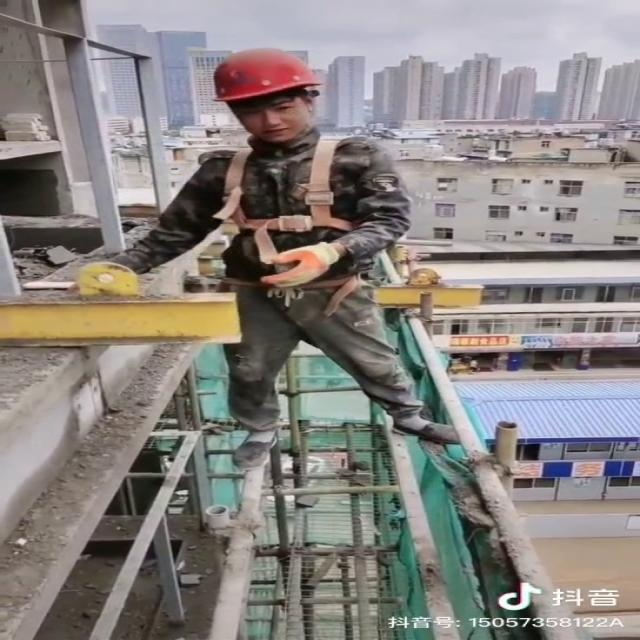Arnes_seguridad: (195, 129, 380, 264)
